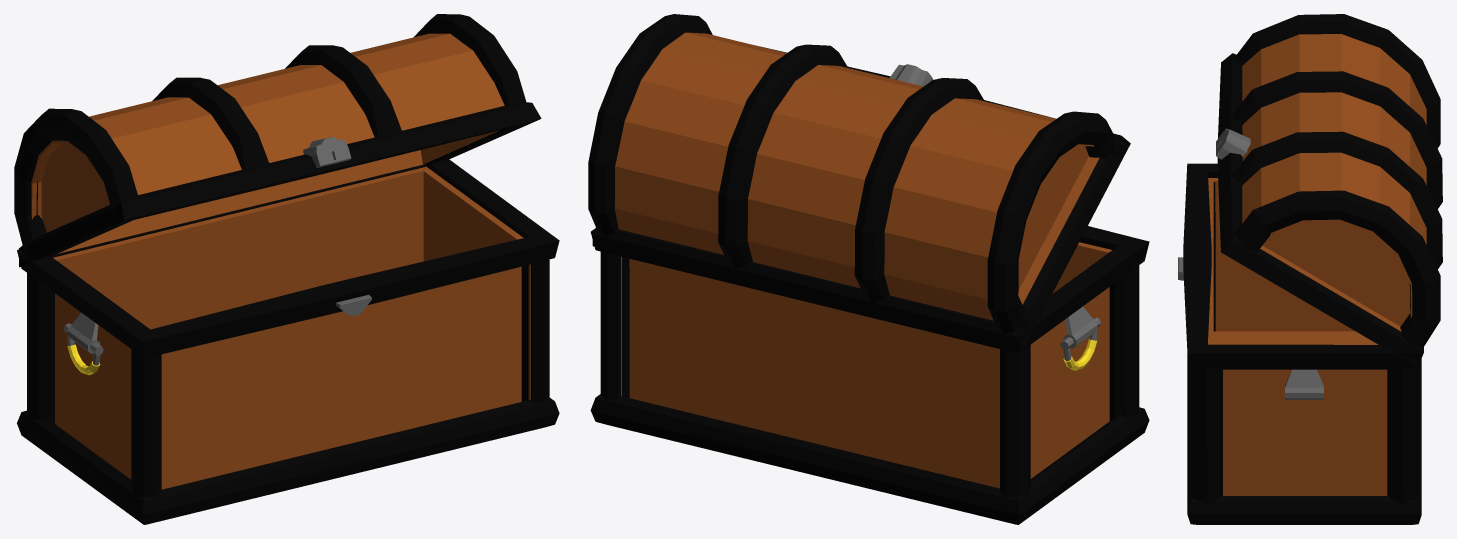
Rendered from Treasure_Chest.fbx.
3 views of the same model, side by side, from view 1: azimuth 30°, elevation 25°; view 2: azimuth 150°, elevation 25°; view 3: azimuth 270°, elevation 25° (orthographic). The views are drawn at different scales.
Parts seen in each view (by area): view 1: Chest Bottom, Chest Top, Handle Left; view 2: Chest Top, Chest Bottom, Handle Left; view 3: Chest Top, Chest Bottom.
Boxes of the visible parts, x1,y1,x2,y2 form: Chest Bottom: (17,159,559,524); Chest Top: (14,14,541,267); Handle Left: (64,323,103,375); Chest Top: (588,14,1130,350); Chest Bottom: (590,226,1149,524); Handle Left: (1060,317,1100,370); Chest Top: (1216,14,1442,367); Chest Bottom: (1178,163,1421,524).
Bounding box in the file's own units: 423 × 343 × 247.
